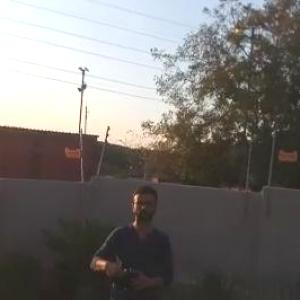follow: (86, 170, 180, 299)
